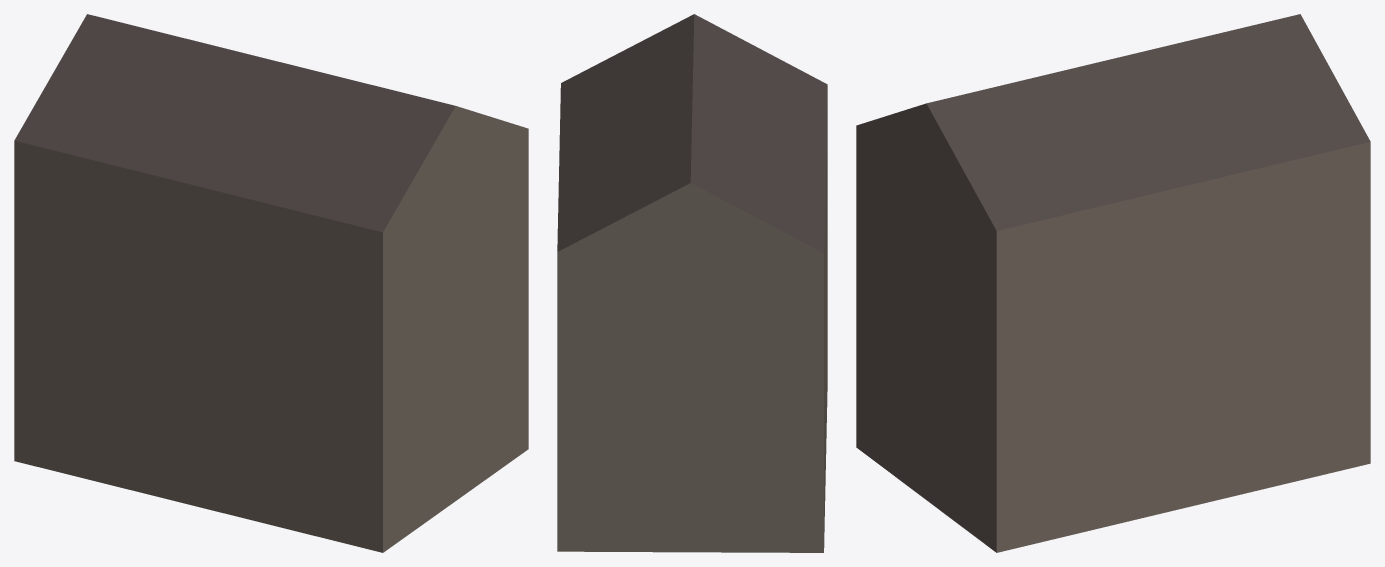
The picture shows the model from 3 angles, left to right: view 1: azimuth 30°, elevation 25°; view 2: azimuth 150°, elevation 25°; view 3: azimuth 270°, elevation 25°; orthographic projection. The views are drawn at different scales.
Parts seen in each view (by area): view 1: HP-w414551894; view 2: HP-w414551894; view 3: HP-w414551894.
Part boxes in pixels (left/top/right/bottom): HP-w414551894: left=14, top=14, right=528, bottom=552; HP-w414551894: left=557, top=14, right=827, bottom=552; HP-w414551894: left=856, top=14, right=1370, bottom=552.
Bounding box in the file's own units: 7.79 × 7.4 × 8.69.
